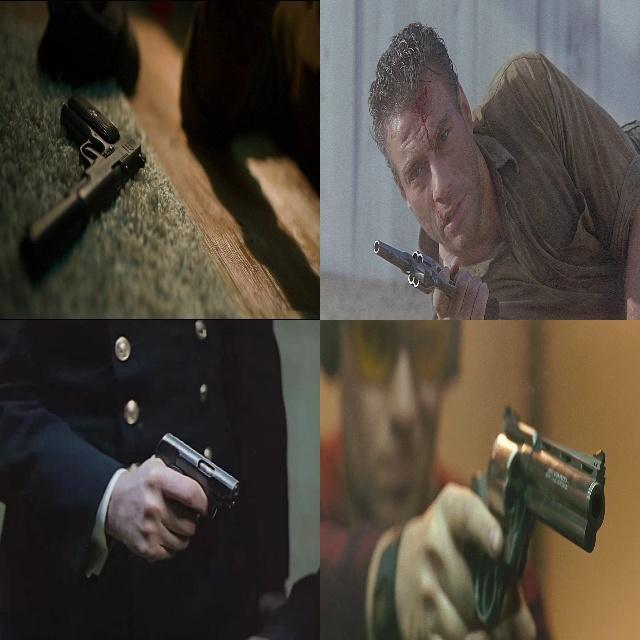gun-knife-thesis - v11 Yolov5 augmented: (422, 406, 608, 639), (22, 82, 150, 284), (132, 424, 246, 562), (366, 224, 501, 319)
